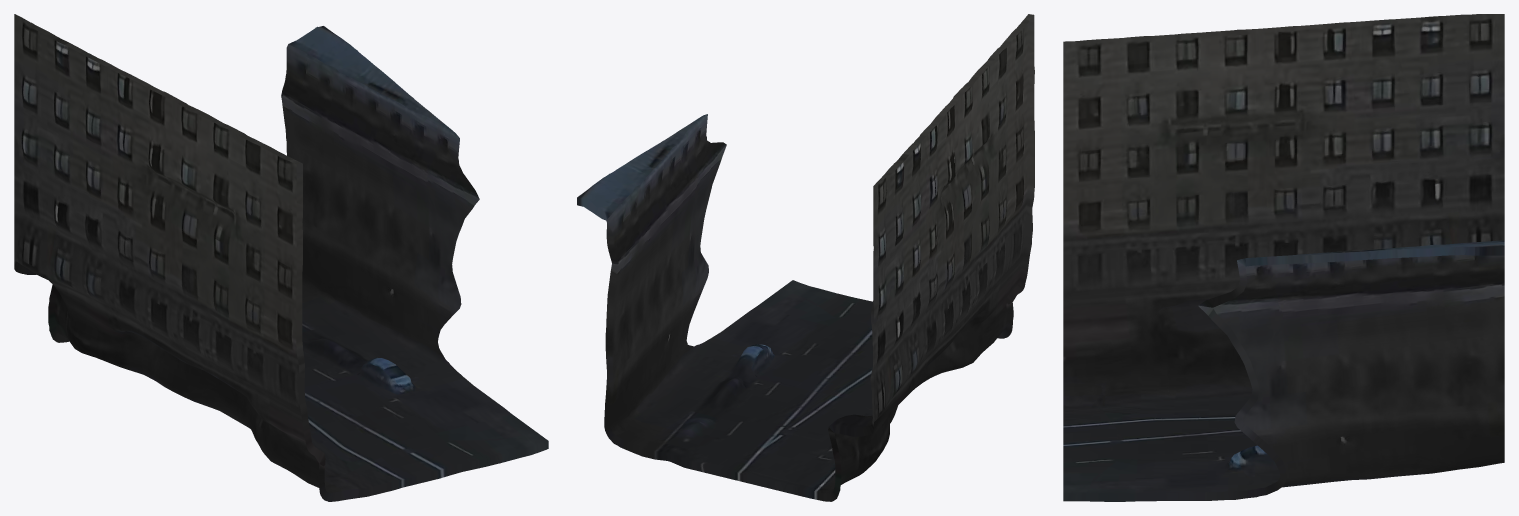
Rendered from z20-167746-405247-h0-yup-uvflip-v3-world.glb.
3 views of the same model, side by side, from view 1: azimuth 30°, elevation 25°; view 2: azimuth 150°, elevation 25°; view 3: azimuth 270°, elevation 25° (orthographic). The views are drawn at different scales.
Size of the model in its own units: 24.08 by 26 by 30.32.
Materials: 1 (1 with a texture image).
